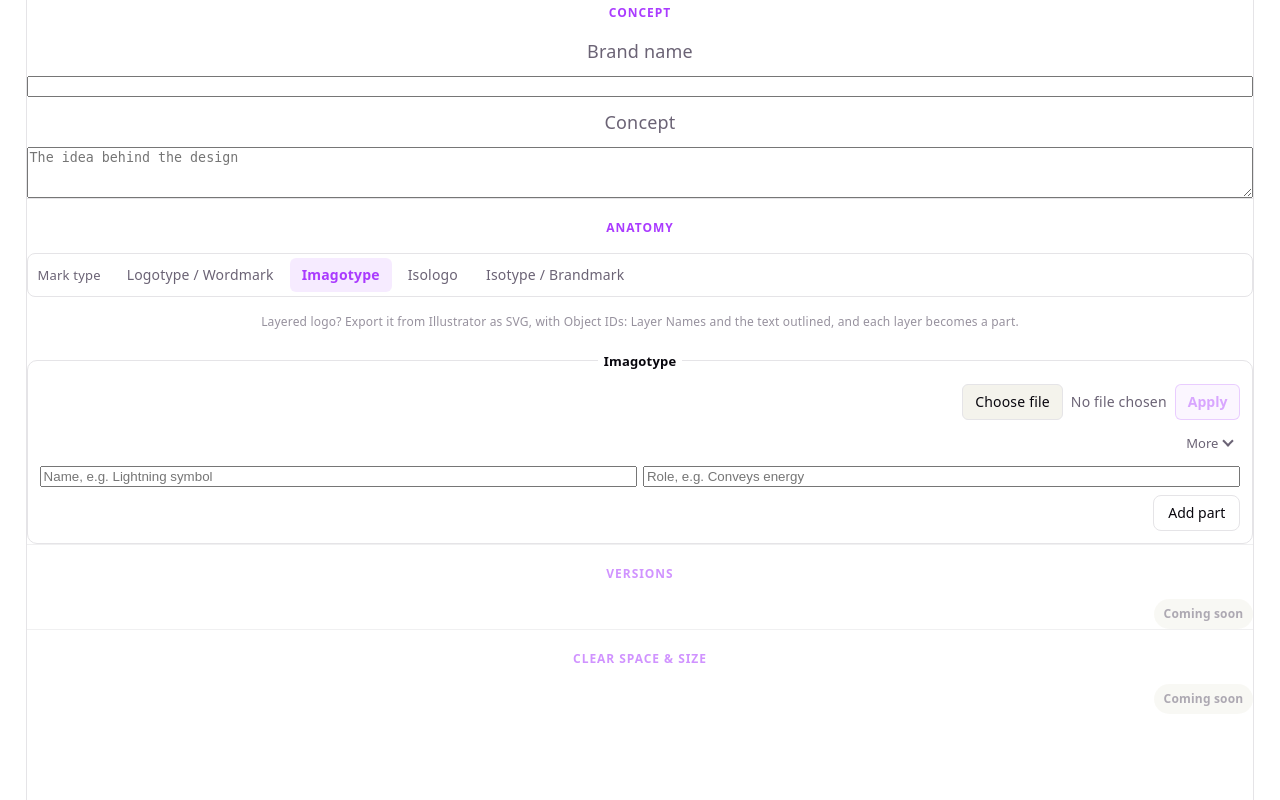
Test: Logo section – mark cards › needs at least one mark type
The width and height of the screenshot is (1280, 800).
In the field labelled "Brand name": (640, 87) [27,76,1253,97], type "VOLTA"
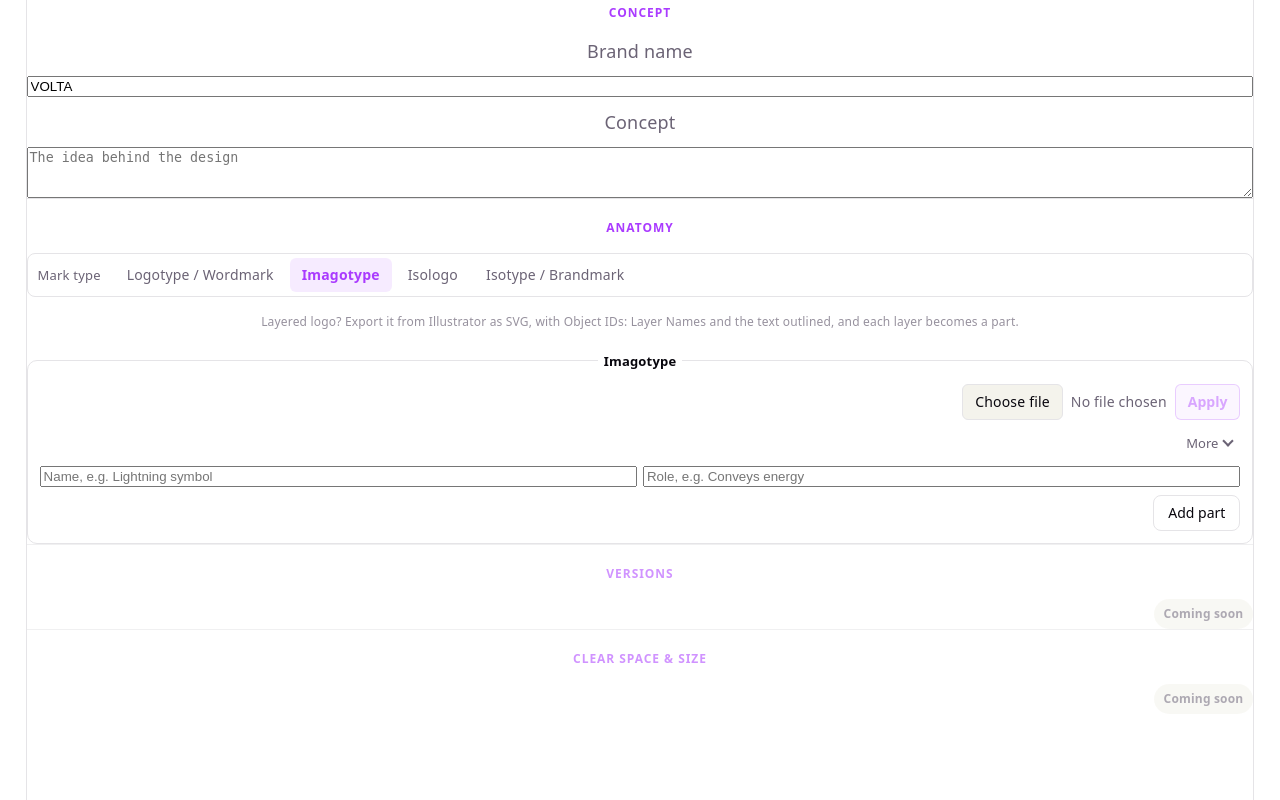
In the text box labelled "Concept": (640, 173) [27,147,1253,198], type "Energy that moves cities."
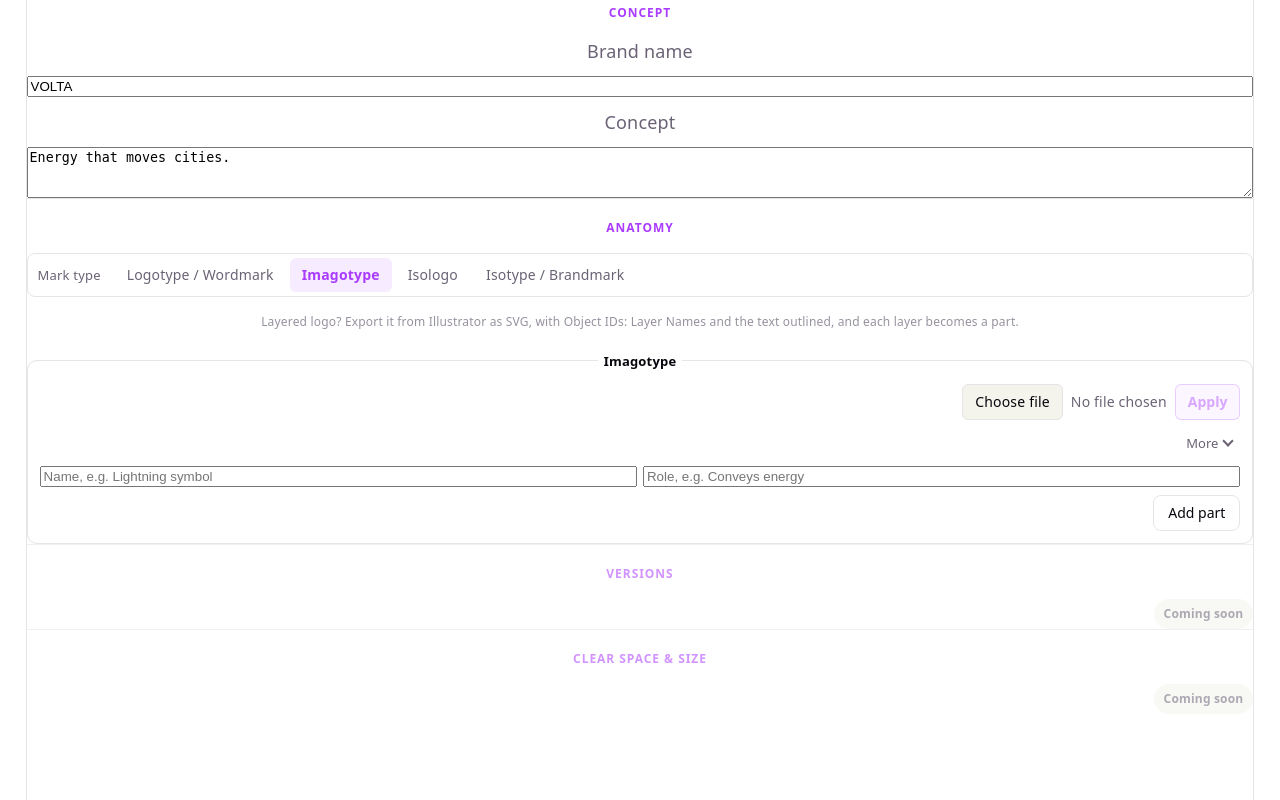
In the field named "Imagotype name": (338, 476) [40,466,637,487], type "Lightning symbol"
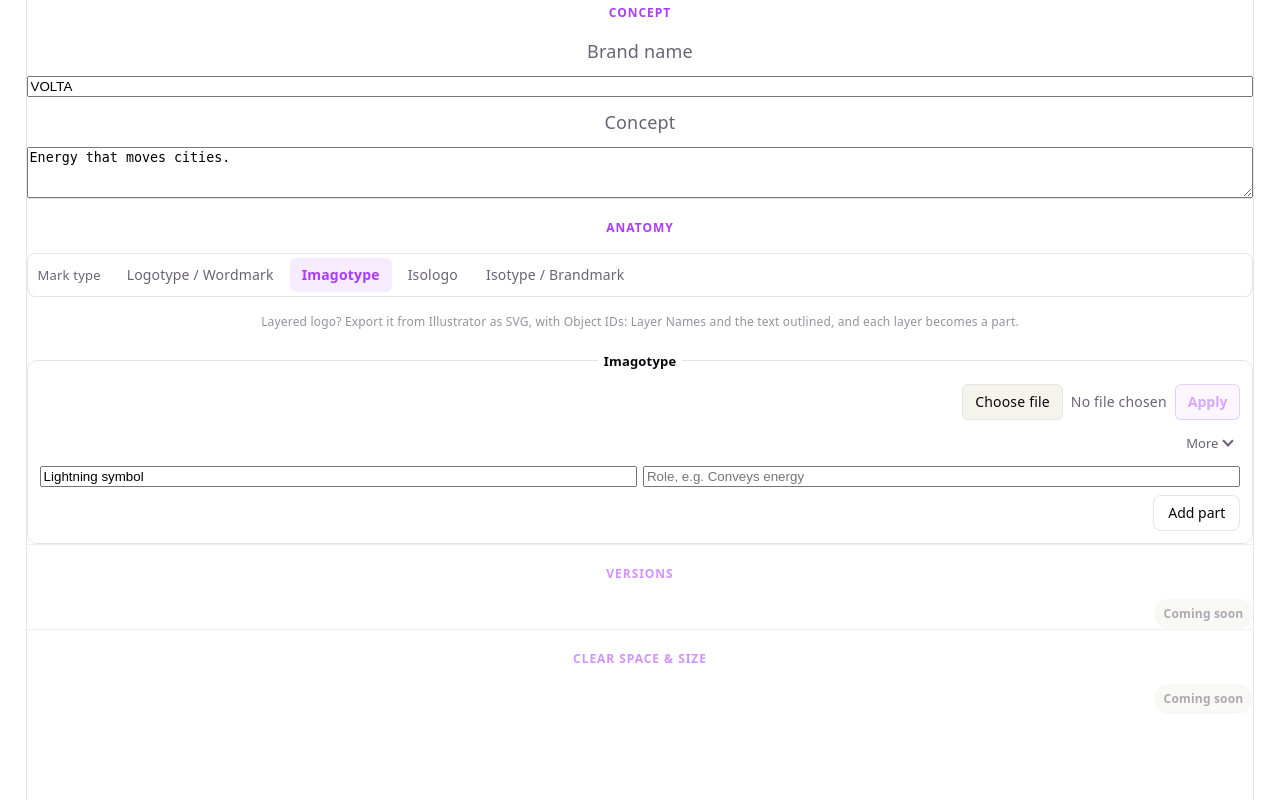
In the field named "Imagotype role": (942, 476) [643,466,1240,487], type "Conveys energy"
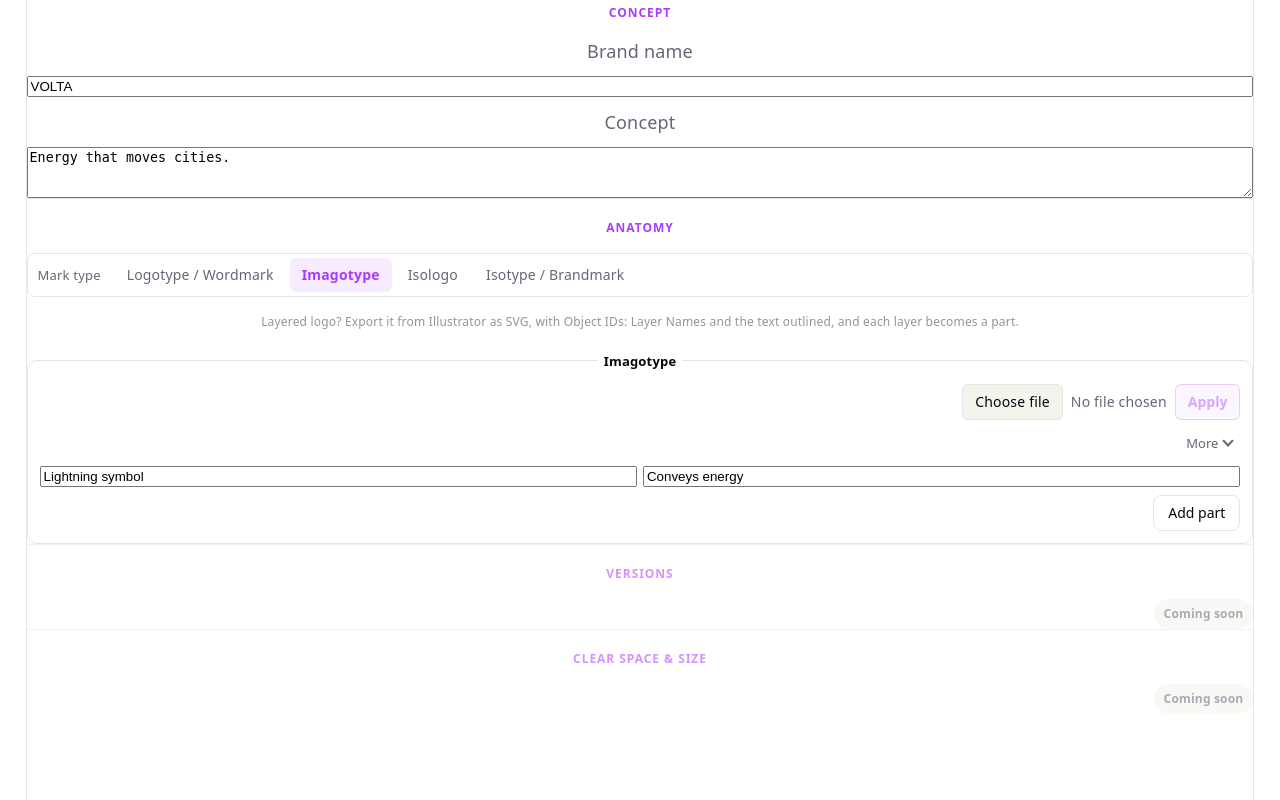
Click the checkbox labelled "Imagotype": (341, 275) [290,258,392,292]
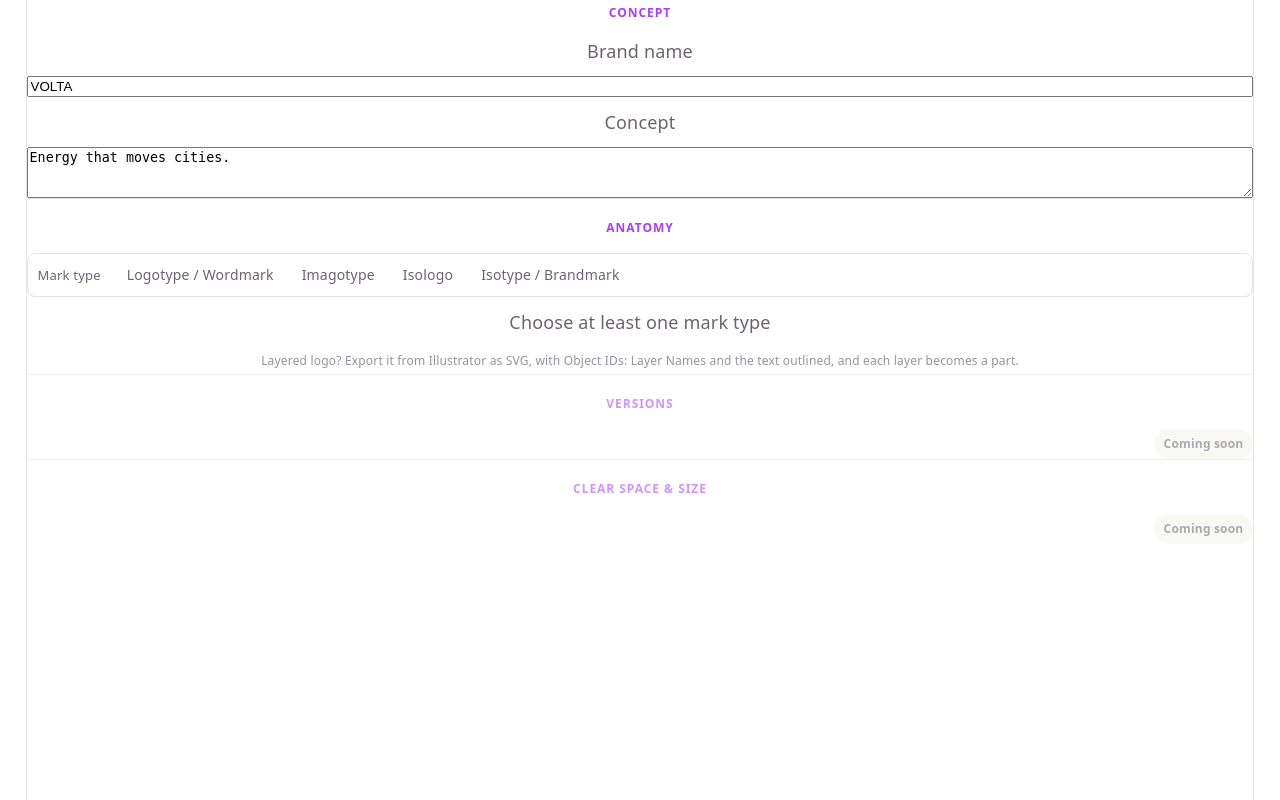
Check: the text "Choose at least one mark type" is shown, box [509,310,771,334]
